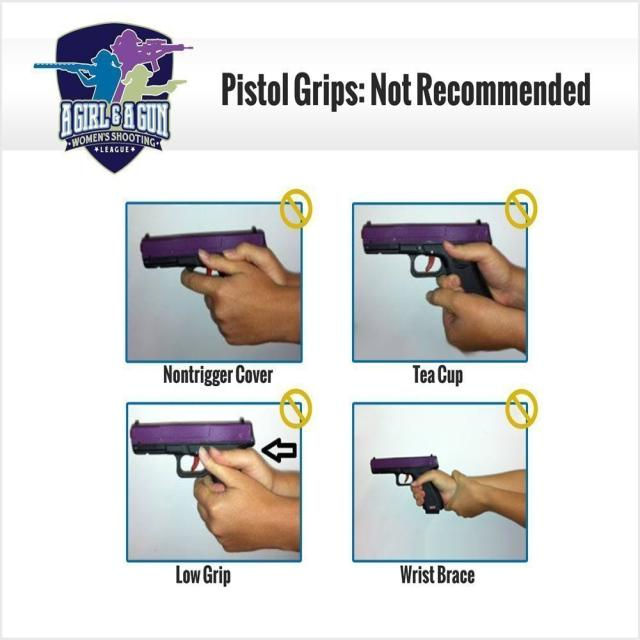HandGun: (361, 222, 493, 298), (130, 418, 255, 479), (140, 226, 266, 276), (370, 455, 444, 515)
